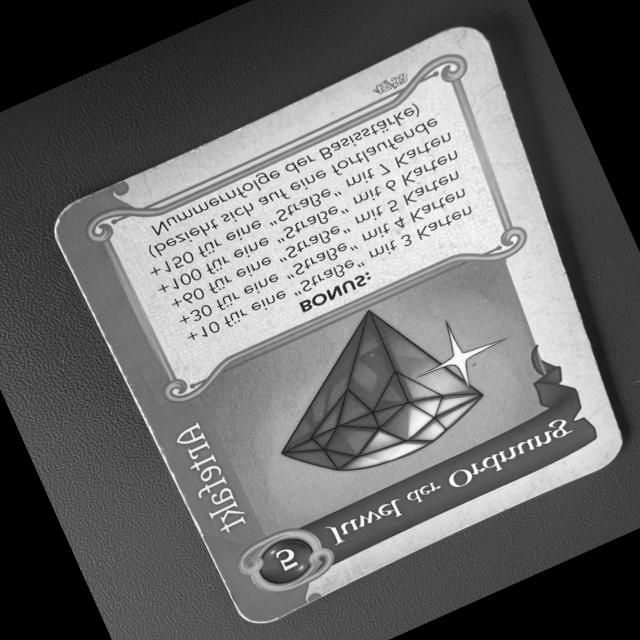Gem Of Order: (45, 17, 630, 635)
